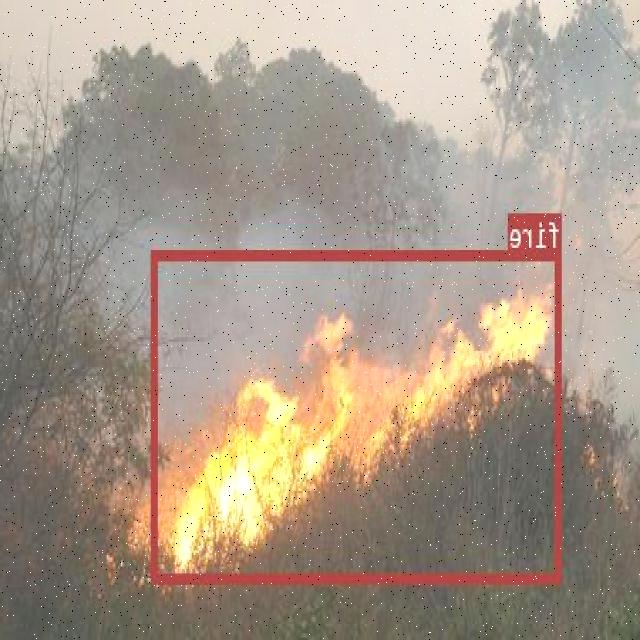fire: (153, 248, 563, 582)
